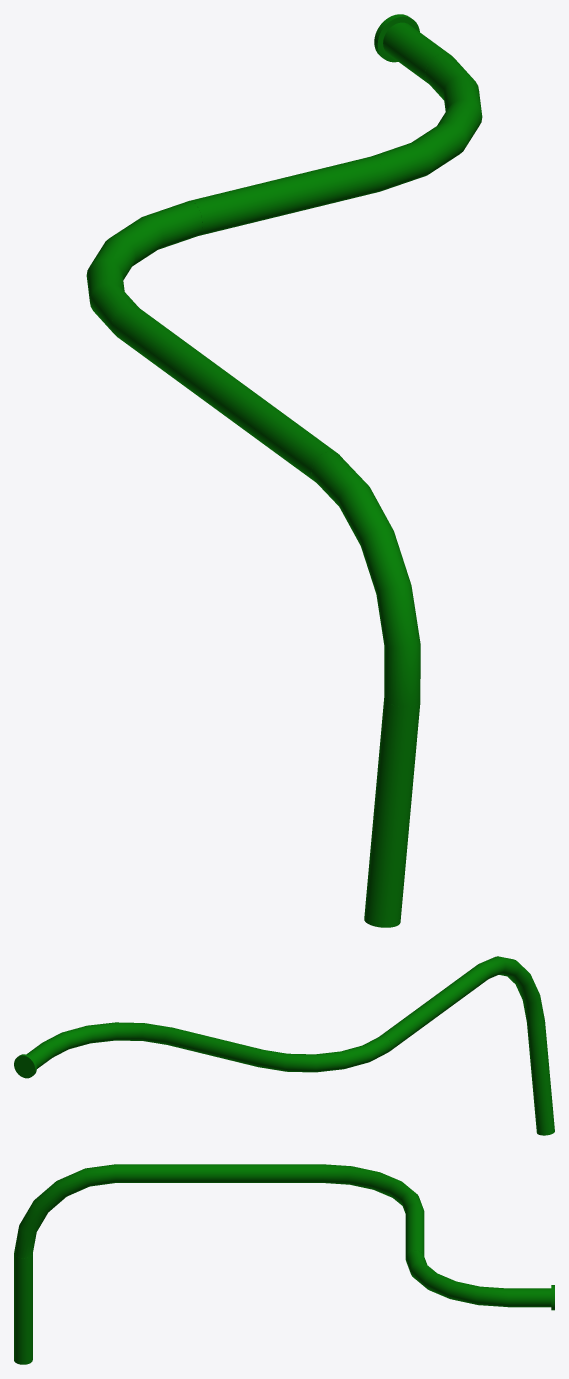
The model's file is Image-1710907700729-2280676426176_SI-2809.fbx.
3 views of the same model, one above another, from view 1: azimuth 30°, elevation 25°; view 2: azimuth 150°, elevation 25°; view 3: azimuth 270°, elevation 25° (orthographic). The views are drawn at different scales.
Parts seen in each view (by area): view 1: Cylinder (×4), ELBOW 1 of BRANCH /SI-2809/B3, ELBOW 1 of BRANCH /SI-2809/B1, ELBOW 1 of BRANCH /SI-2809/B2; view 2: Cylinder (×4), ELBOW 1 of BRANCH /SI-2809/B2, ELBOW 1 of BRANCH /SI-2809/B1, ELBOW 1 of BRANCH /SI-2809/B3, FLANGE 1 of BRANCH /SI-2809/B1; view 3: Cylinder (×4), ELBOW 1 of BRANCH /SI-2809/B3, ELBOW 1 of BRANCH /SI-2809/B1, ELBOW 1 of BRANCH /SI-2809/B2.
Boxes of the visible parts, <box> form: Cylinder (×4): <box>131,164,417,927</box>; ELBOW 1 of BRANCH /SI-2809/B3: <box>292,437,420,742</box>; ELBOW 1 of BRANCH /SI-2809/B1: <box>339,39,482,199</box>; ELBOW 1 of BRANCH /SI-2809/B2: <box>86,192,235,349</box>; Cylinder (×4): <box>182,970,554,1135</box>; ELBOW 1 of BRANCH /SI-2809/B2: <box>240,1029,401,1072</box>; ELBOW 1 of BRANCH /SI-2809/B1: <box>33,1022,188,1063</box>; ELBOW 1 of BRANCH /SI-2809/B3: <box>470,956,546,1042</box>; FLANGE 1 of BRANCH /SI-2809/B1: <box>14,1054,36,1078</box>; Cylinder (×4): <box>14,1164,548,1364</box>; ELBOW 1 of BRANCH /SI-2809/B3: <box>14,1164,135,1275</box>; ELBOW 1 of BRANCH /SI-2809/B1: <box>405,1241,527,1307</box>; ELBOW 1 of BRANCH /SI-2809/B2: <box>302,1164,424,1218</box>.
Size of the model in its own units: 10.15 by 16.31 by 6.9.
